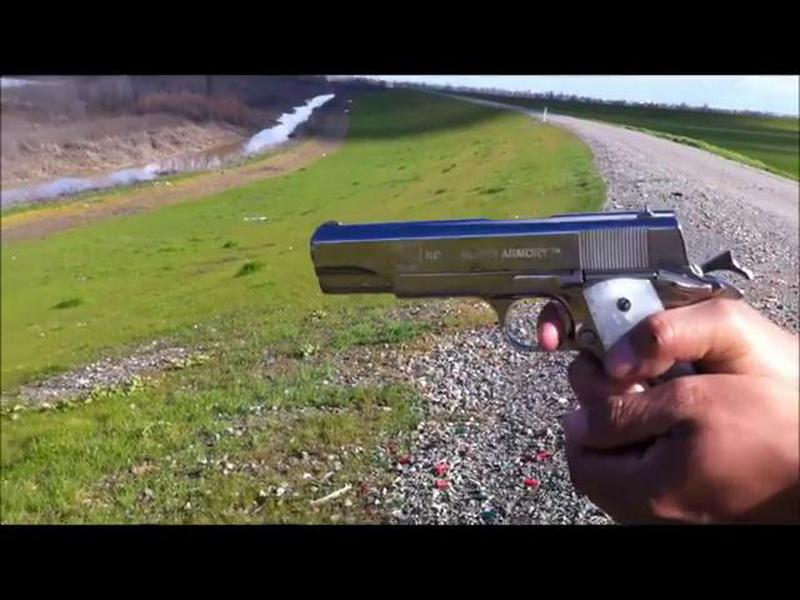Pistola: (288, 174, 726, 412)
